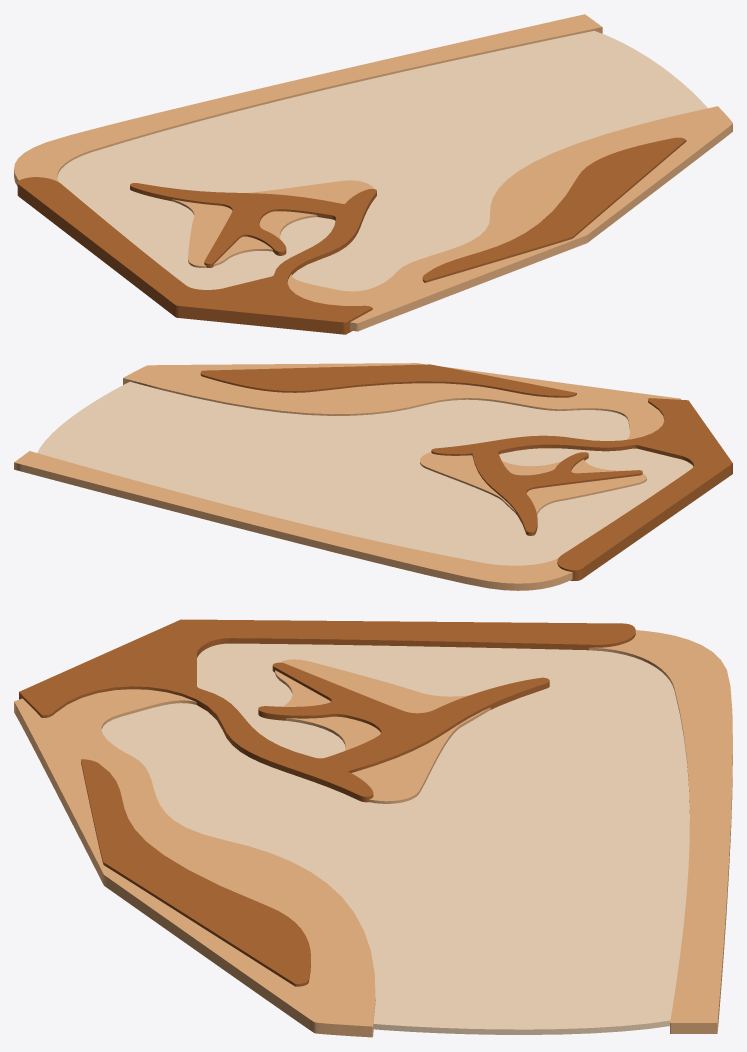
Rendered from emoji_u1f91b_1f3fb.glb.
3 views of the same model, one above another, from view 1: azimuth 30°, elevation 25°; view 2: azimuth 150°, elevation 25°; view 3: azimuth 270°, elevation 25° (orthographic). The views are drawn at different scales.
Parts seen in each view (by area): view 1: emoji_u1f91b_1f3fb; view 2: emoji_u1f91b_1f3fb; view 3: emoji_u1f91b_1f3fb.
Boxes of the visible parts, left/top/right/bottom form: emoji_u1f91b_1f3fb: left=14, top=14, right=732, bottom=334; emoji_u1f91b_1f3fb: left=14, top=363, right=732, bottom=590; emoji_u1f91b_1f3fb: left=14, top=619, right=732, bottom=1037.
Size of the model in its own units: 0.0318 by 0.0006 by 0.0239.
